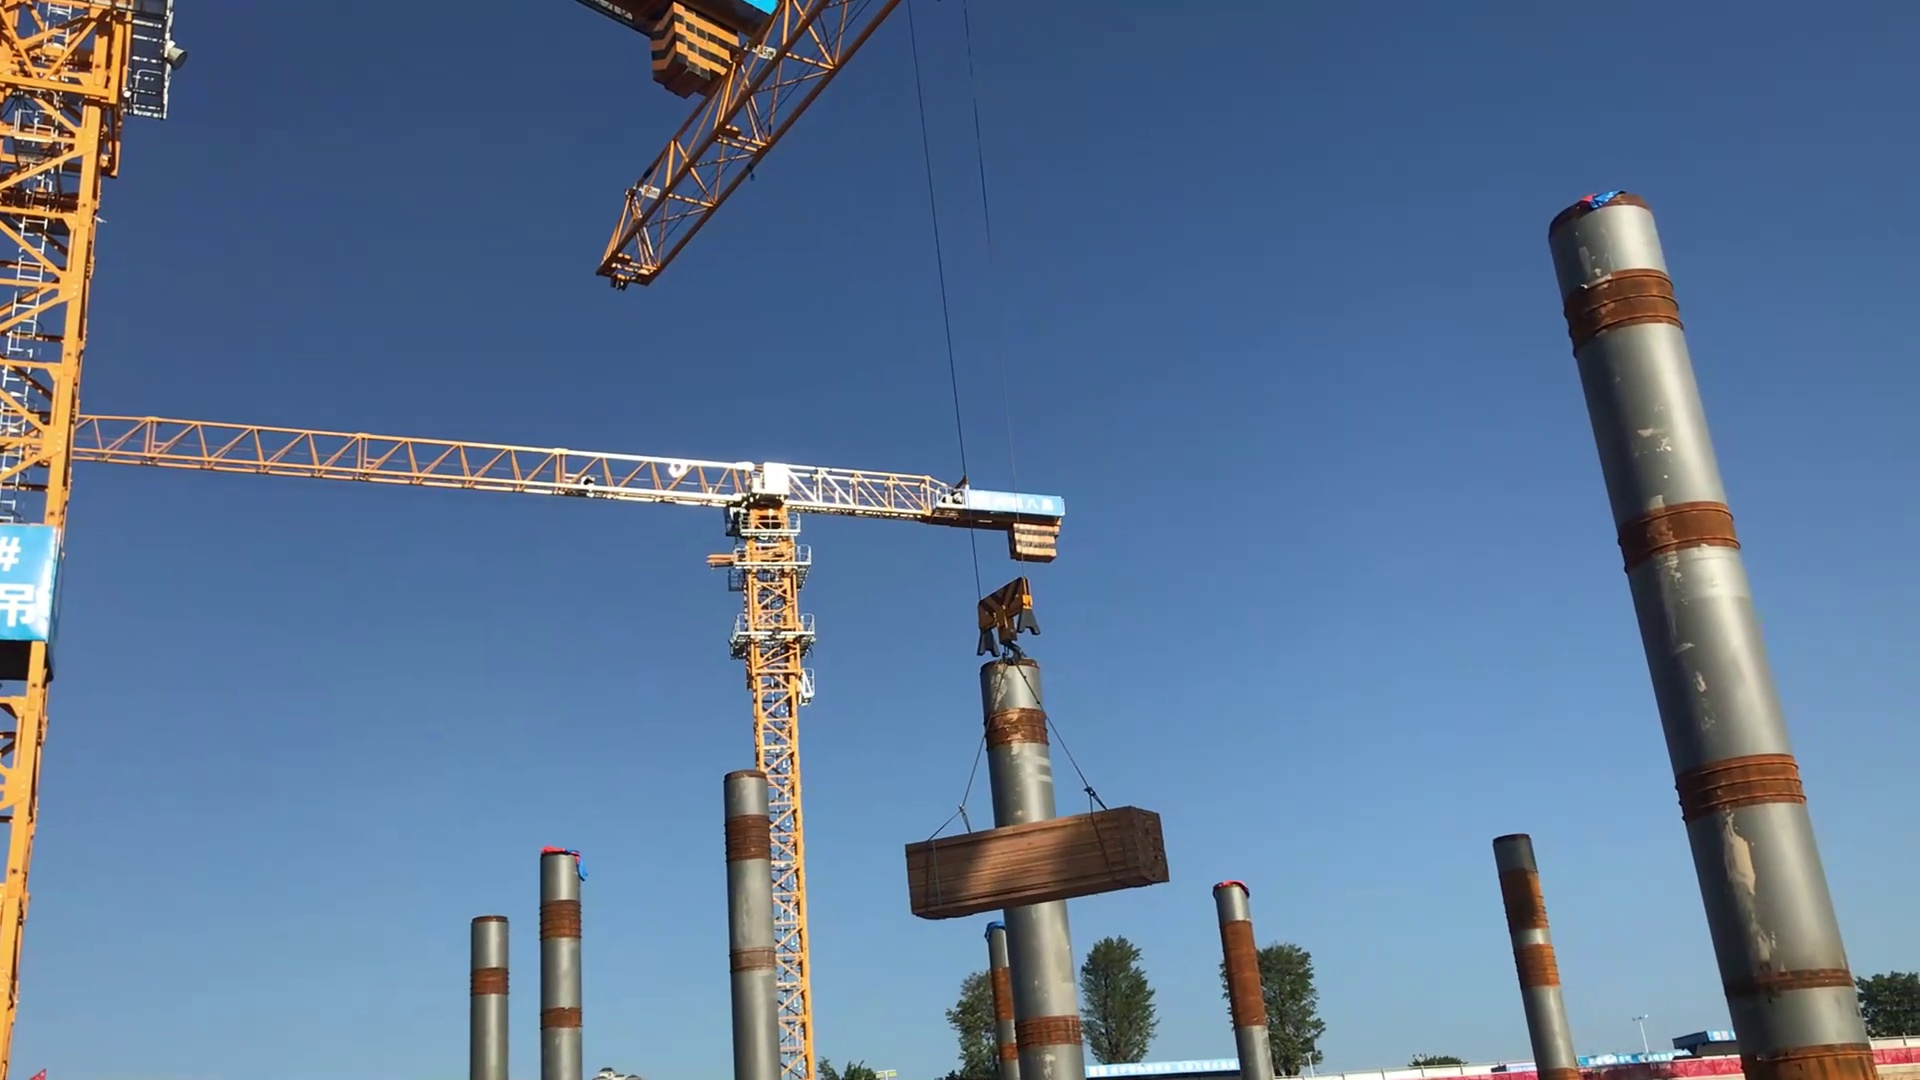hook: (971, 574, 1046, 657)
wood: (876, 785, 1212, 934)
